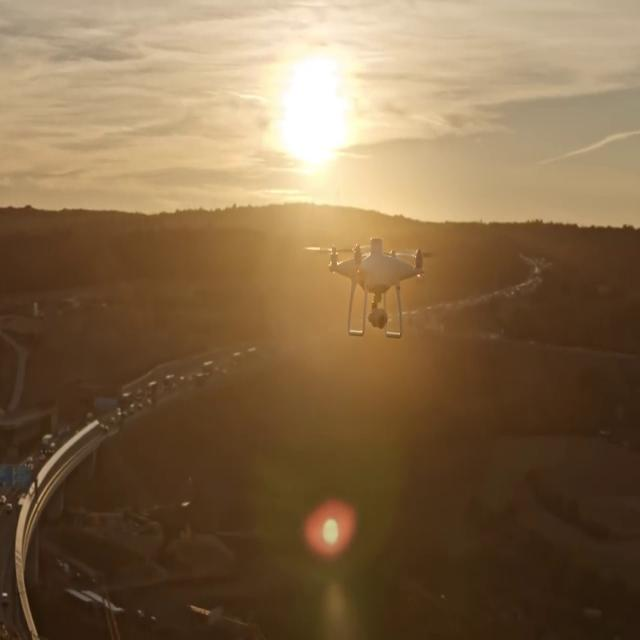drone: (305, 235, 439, 338)
